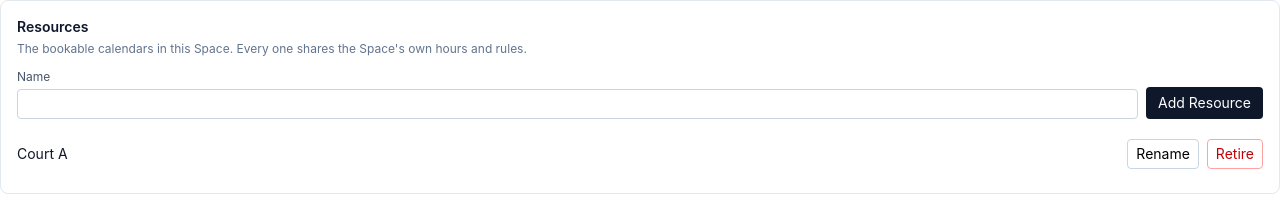
Test: ResourcesPanel › renames a Resource and shows the new name, with no refetch
The image size is (1280, 211).
Expected: the list item with test id "resource-1" is shown, [17,131,1263,177]
Click the button with test id "resource-1-rename-start" at (1163, 154), box [1127,139,1199,169]
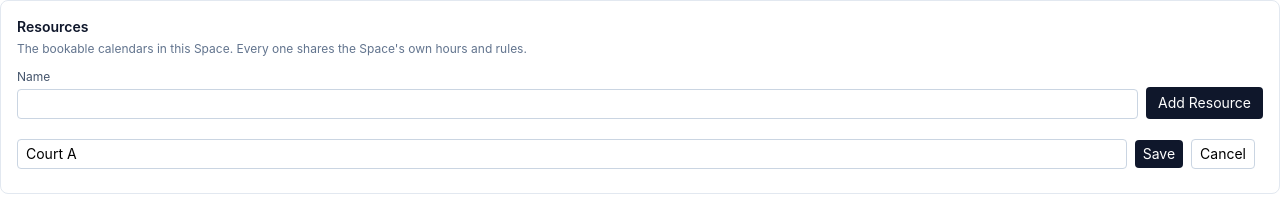
Replace the text in the field with test id "resource-1-rename-input" with "Center Court" at (572, 154), box [17,139,1127,169]
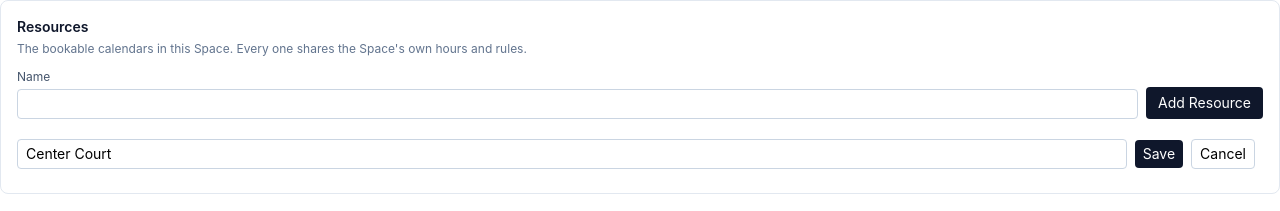
Click the button with test id "resource-1-rename-save" at (1159, 154), box [1135,140,1183,168]
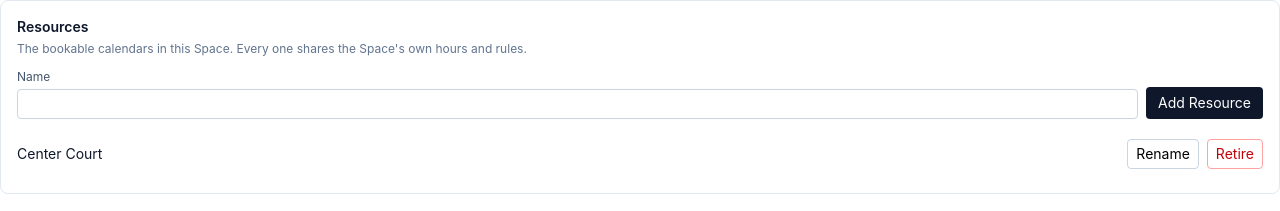
Expected: the text with test id "resource-1-name" reads "Center Court", [17,145,102,162]
